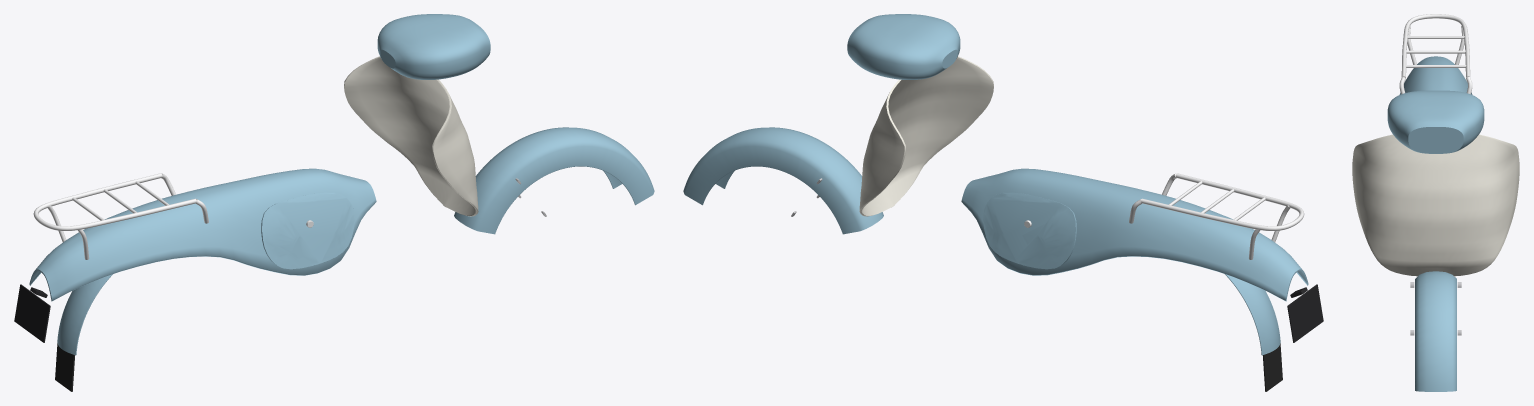
Rendered from bike_step_through__bodywork.glb.
The picture shows the model from 3 angles, left to right: view 1: azimuth 30°, elevation 25°; view 2: azimuth 150°, elevation 25°; view 3: azimuth 270°, elevation 25°; orthographic projection. The views are drawn at different scales.
Parts seen in each view (by area): view 1: frame_body__rear_body, frame_body__leg_shield, frame_body__front_mudguard, frame_body__handlebar_cowl, frame_body__side_covers__left, frame_body__carrier, frame_body__rear_mudguard, frame_body__number_plate_bracket, frame_body__rear_mudguard__flap; view 2: frame_body__rear_body, frame_body__leg_shield, frame_body__front_mudguard, frame_body__handlebar_cowl, frame_body__side_covers__right, frame_body__carrier, frame_body__rear_mudguard, frame_body__number_plate_bracket, frame_body__rear_mudguard__flap; view 3: frame_body__leg_shield, frame_body__handlebar_cowl, frame_body__front_mudguard, frame_body__carrier, frame_body__rear_body.
Part boxes in pixels (x1,y1,x2,y2): frame_body__rear_body: [29, 168, 376, 301]; frame_body__leg_shield: [344, 56, 478, 216]; frame_body__front_mudguard: [454, 127, 654, 234]; frame_body__handlebar_cowl: [377, 14, 490, 79]; frame_body__side_covers__left: [261, 192, 354, 269]; frame_body__carrier: [33, 173, 208, 259]; frame_body__rear_mudguard: [57, 274, 112, 355]; frame_body__number_plate_bracket: [14, 284, 50, 342]; frame_body__rear_mudguard__flap: [55, 343, 74, 391]; frame_body__rear_body: [961, 168, 1308, 301]; frame_body__leg_shield: [859, 56, 993, 216]; frame_body__front_mudguard: [683, 127, 883, 234]; frame_body__handlebar_cowl: [847, 14, 960, 79]; frame_body__side_covers__right: [983, 192, 1076, 269]; frame_body__carrier: [1129, 173, 1304, 259]; frame_body__rear_mudguard: [1225, 274, 1280, 355]; frame_body__number_plate_bracket: [1287, 284, 1323, 342]; frame_body__rear_mudguard__flap: [1262, 343, 1282, 391]; frame_body__leg_shield: [1352, 134, 1519, 276]; frame_body__handlebar_cowl: [1387, 90, 1484, 153]; frame_body__front_mudguard: [1415, 271, 1456, 391]; frame_body__carrier: [1399, 14, 1472, 94]; frame_body__rear_body: [1399, 56, 1472, 94].
Bounding box in the file's own units: 194 × 80.1 × 48.89.
